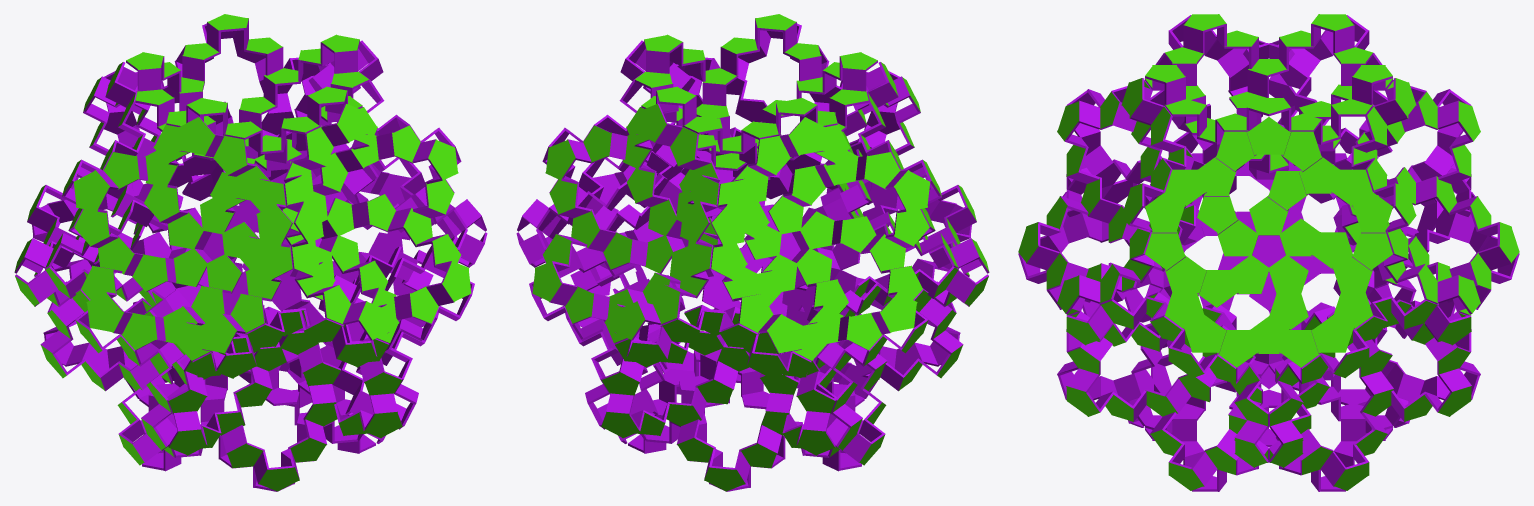
The model's file is WalkAboutDodecahedron.glb.
3 views of the same model, side by side, from view 1: azimuth 30°, elevation 25°; view 2: azimuth 150°, elevation 25°; view 3: azimuth 270°, elevation 25° (orthographic). The views are drawn at different scales.
Visible parts, largest first — view 1: ESCHER_WALKABOUT_DODECAHEDRON_1Augmented_Icosidodeca; view 2: ESCHER_WALKABOUT_DODECAHEDRON_1Augmented_Icosidodeca; view 3: ESCHER_WALKABOUT_DODECAHEDRON_1Augmented_Icosidodeca.
Boxes of the visible parts, x1=… form: ESCHER_WALKABOUT_DODECAHEDRON_1Augmented_Icosidodeca: x1=14, y1=14, x2=487, y2=491; ESCHER_WALKABOUT_DODECAHEDRON_1Augmented_Icosidodeca: x1=516, y1=14, x2=989, y2=491; ESCHER_WALKABOUT_DODECAHEDRON_1Augmented_Icosidodeca: x1=1018, y1=14, x2=1519, y2=491.
Bounding box in the file's own units: 167 × 150 × 176.
